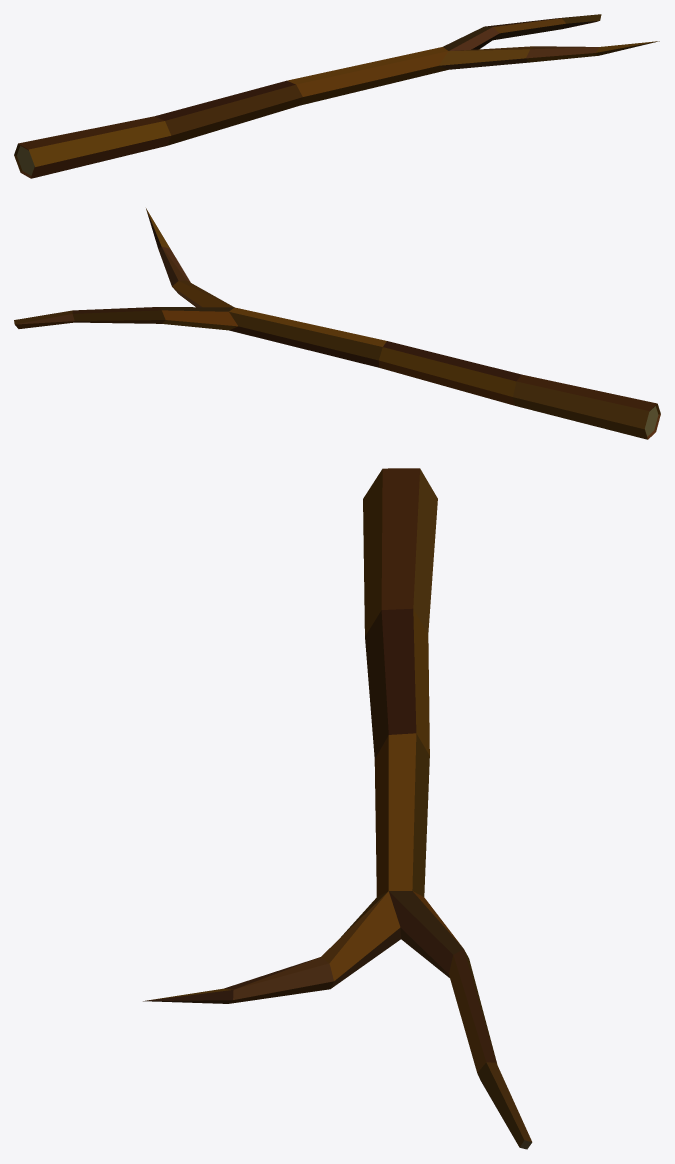
File: Branch.glb
The picture shows the model from 3 angles, top to bottom: view 1: azimuth 30°, elevation 25°; view 2: azimuth 150°, elevation 25°; view 3: azimuth 270°, elevation 25°; orthographic projection. The views are drawn at different scales.
Parts seen in each view (by area): view 1: Branch; view 2: Branch; view 3: Branch.
Boxes of the visible parts, box(x1,y1,x2,y2) form: Branch: box(14, 14, 659, 178); Branch: box(14, 208, 660, 439); Branch: box(143, 468, 532, 1149).
Size of the model in its own units: 1.15 by 0.1064 by 0.3175.
